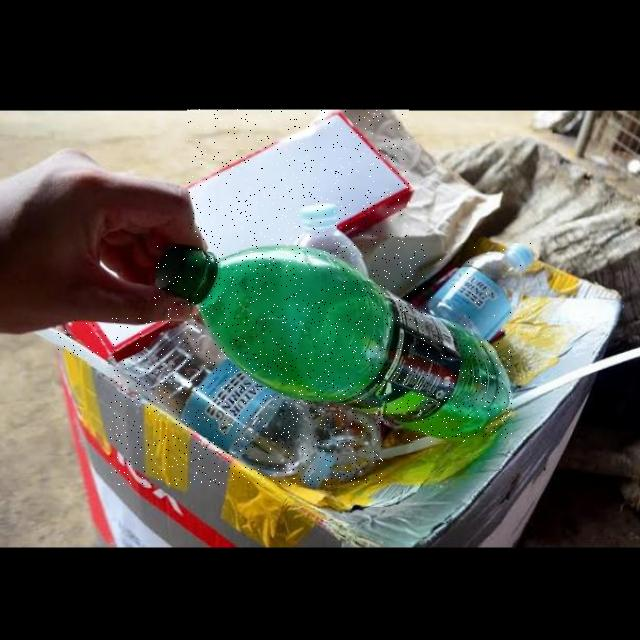paper: (187, 109, 409, 257), (56, 320, 183, 363)
plastic: (154, 244, 512, 442), (111, 318, 335, 486), (427, 244, 533, 341), (297, 202, 370, 281), (314, 406, 383, 485)
